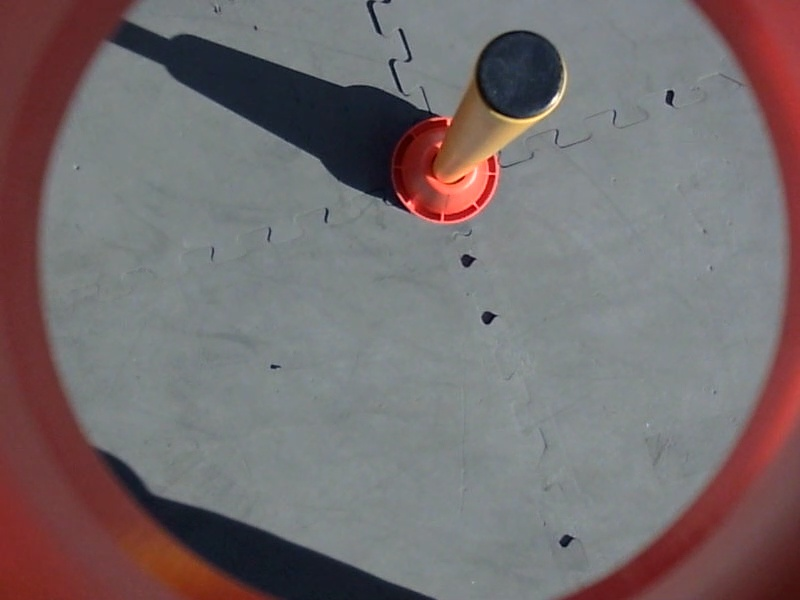tip: (468, 27, 572, 130)
